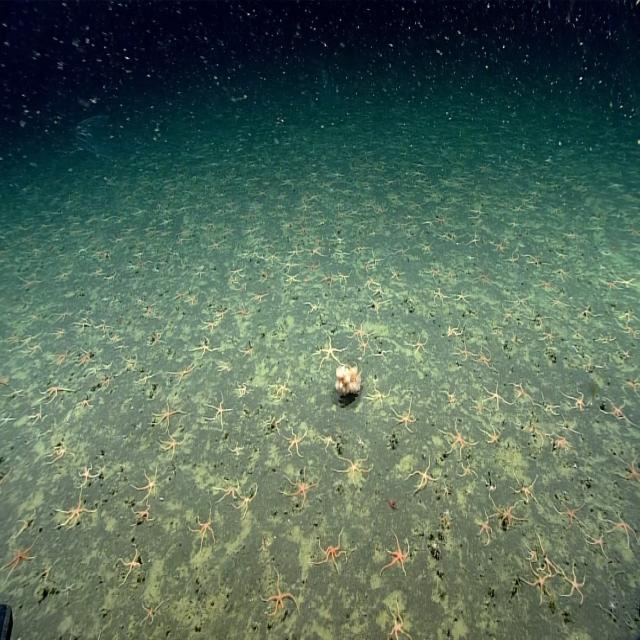brittle-stars: (264, 575, 298, 620), (1, 536, 37, 577), (56, 495, 95, 530), (315, 531, 346, 572), (382, 602, 412, 640), (609, 509, 638, 548), (286, 470, 315, 506), (385, 535, 411, 575), (192, 508, 218, 548), (440, 421, 470, 455), (524, 564, 552, 600), (336, 454, 369, 484), (562, 562, 586, 603), (536, 532, 558, 576), (554, 497, 583, 529), (410, 458, 437, 492), (513, 472, 540, 506), (492, 501, 523, 529), (601, 395, 630, 424), (154, 401, 182, 431), (30, 558, 57, 589), (317, 336, 343, 368), (118, 547, 142, 581), (134, 467, 160, 498), (206, 395, 230, 427), (8, 330, 41, 352), (483, 382, 508, 411), (10, 513, 35, 542), (284, 427, 307, 458), (392, 403, 416, 432), (40, 379, 70, 402), (49, 440, 74, 467), (170, 361, 197, 386), (270, 374, 294, 402), (233, 488, 256, 516), (619, 454, 640, 484), (532, 394, 558, 418), (140, 597, 163, 624), (565, 388, 588, 414), (214, 478, 238, 502), (161, 434, 184, 459), (368, 382, 391, 406), (478, 512, 495, 543), (79, 462, 99, 487), (555, 414, 580, 434), (588, 529, 607, 555), (574, 302, 596, 324), (262, 414, 284, 436), (482, 423, 503, 446), (133, 502, 154, 525), (194, 339, 218, 359), (522, 252, 550, 269), (409, 333, 429, 355), (117, 356, 139, 376), (51, 347, 71, 368), (554, 430, 572, 453), (513, 380, 530, 404), (0, 466, 14, 495), (511, 291, 532, 310), (454, 342, 472, 363), (76, 347, 94, 368), (365, 296, 386, 314), (583, 357, 606, 373), (621, 324, 640, 343), (458, 460, 476, 480), (54, 306, 74, 324), (478, 346, 493, 369), (350, 320, 368, 339), (550, 296, 570, 313), (24, 341, 44, 358), (135, 370, 155, 387), (83, 629, 113, 640), (535, 275, 554, 292), (470, 398, 487, 417), (618, 275, 637, 292), (624, 373, 640, 393), (317, 433, 335, 450), (147, 331, 163, 350), (372, 344, 391, 360), (500, 304, 515, 324), (27, 408, 42, 428), (202, 317, 219, 334), (446, 321, 463, 338), (58, 581, 75, 598), (388, 266, 404, 284), (76, 396, 92, 414), (540, 328, 556, 346), (620, 306, 636, 324), (305, 300, 324, 315), (526, 543, 540, 563), (0, 412, 16, 429), (240, 342, 256, 359), (231, 264, 248, 280), (431, 286, 446, 304), (477, 268, 492, 286), (600, 277, 618, 292), (441, 389, 459, 404), (454, 288, 470, 304), (424, 264, 440, 280), (569, 327, 586, 342), (250, 289, 268, 303), (211, 307, 230, 320), (335, 246, 350, 262), (443, 267, 458, 283), (236, 304, 251, 320), (75, 319, 92, 333), (467, 232, 480, 250), (237, 380, 250, 398), (4, 388, 23, 400), (284, 272, 299, 287), (356, 339, 371, 354), (288, 245, 303, 260), (337, 270, 352, 285), (209, 238, 223, 254), (492, 240, 506, 256), (262, 270, 276, 286), (98, 318, 111, 335), (595, 334, 615, 345), (436, 213, 450, 228), (362, 276, 376, 291), (464, 306, 478, 321), (551, 268, 570, 279), (185, 290, 198, 306), (374, 282, 387, 298), (321, 271, 334, 287), (0, 370, 9, 392), (282, 260, 296, 274), (266, 250, 280, 264), (310, 246, 324, 260), (361, 260, 375, 274), (308, 260, 320, 276), (48, 330, 64, 342), (482, 478, 496, 491), (230, 443, 245, 455), (99, 378, 112, 391), (110, 332, 121, 346), (302, 274, 313, 286), (102, 361, 114, 372), (441, 482, 449, 498), (173, 292, 187, 301), (555, 250, 568, 259)
